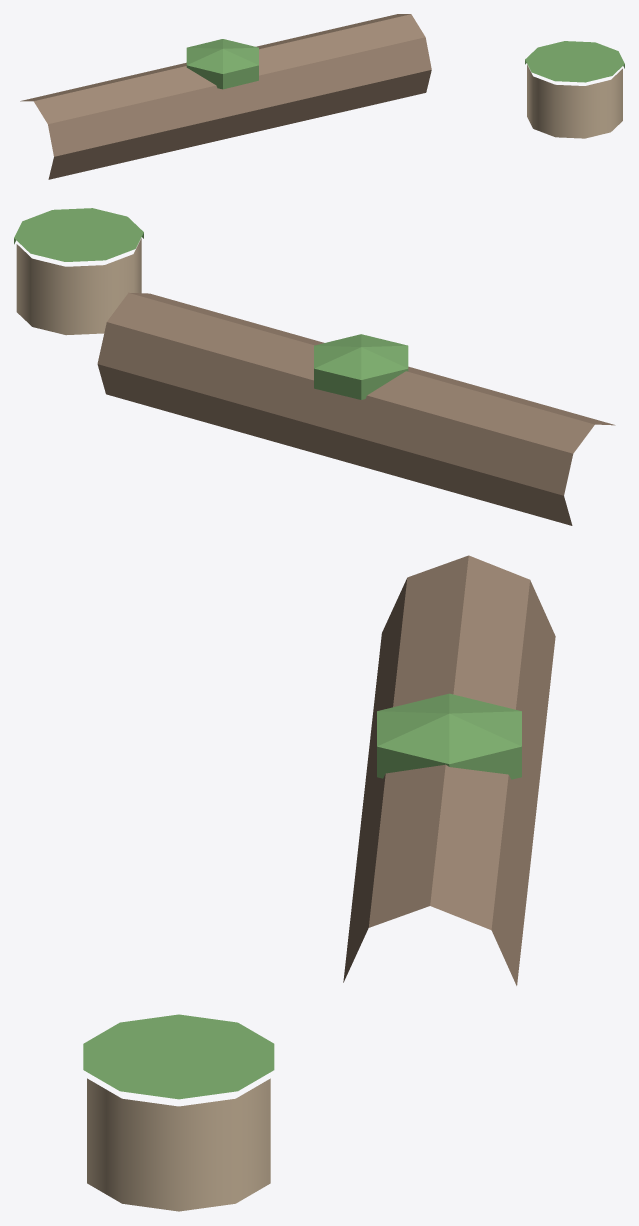
File: fallen_log_and_stump.glb
3 renders of one model, top to bottom at view 1: azimuth 30°, elevation 25°; view 2: azimuth 150°, elevation 25°; view 3: azimuth 270°, elevation 25°, orthographic. The views are drawn at different scales.
Parts seen in each view (by area): view 1: fallen_log_and_stump; view 2: fallen_log_and_stump; view 3: fallen_log_and_stump.
Boxes of the visible parts, x1,y1,x2,y2 form: fallen_log_and_stump: [20, 14, 624, 179]; fallen_log_and_stump: [14, 208, 615, 525]; fallen_log_and_stump: [83, 555, 555, 1211].
Bounding box in the file's own units: 6.14 × 1.02 × 2.44.
